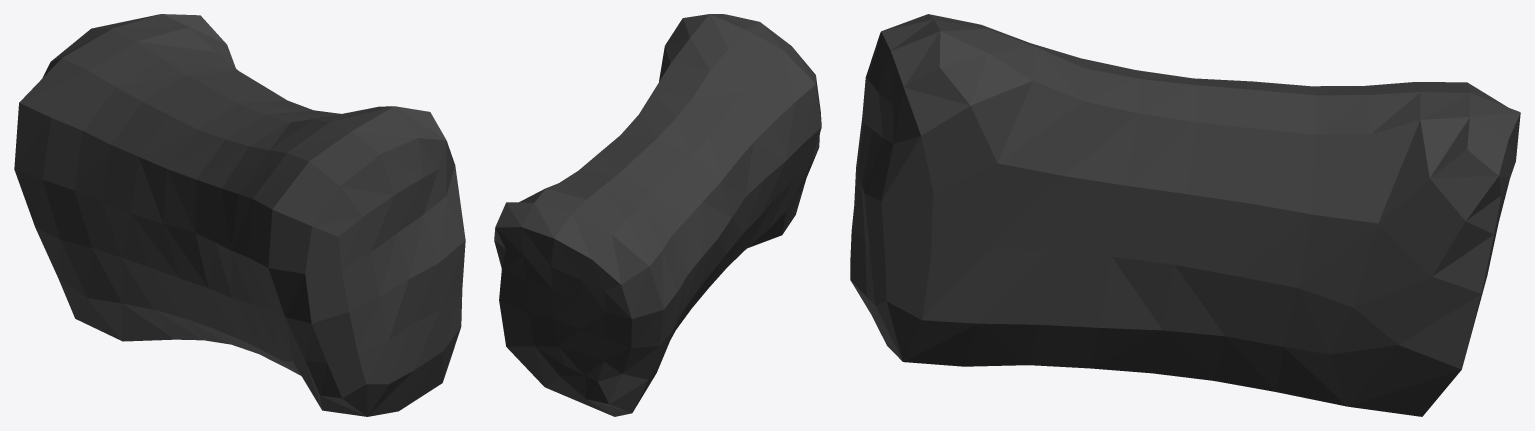
3 renders of one model, left to right at view 1: azimuth 30°, elevation 25°; view 2: azimuth 150°, elevation 25°; view 3: azimuth 270°, elevation 25°, orthographic. The views are drawn at different scales.
Visible parts, largest first — view 1: SB_6; view 2: SB_6; view 3: SB_6.
Part boxes in pixels (left/top/right/bottom): SB_6: left=14, top=14, right=465, bottom=416; SB_6: left=494, top=14, right=821, bottom=416; SB_6: left=850, top=14, right=1520, bottom=416.
Size of the model in its own units: 0.6261 by 1.02 by 1.49.
Materials: 1 (1 with a texture image).
